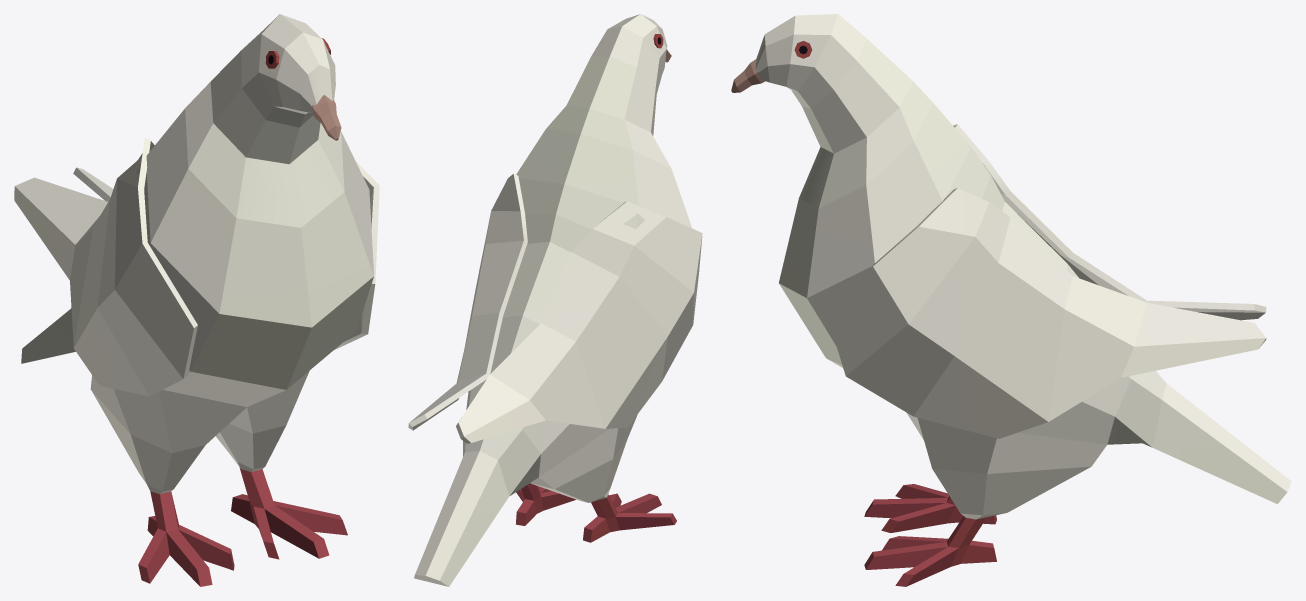
The model's file is pigeon.glb.
The picture shows the model from 3 angles, left to right: view 1: azimuth 30°, elevation 25°; view 2: azimuth 150°, elevation 25°; view 3: azimuth 270°, elevation 25°; orthographic projection. The views are drawn at different scales.
Parts seen in each view (by area): view 1: Geo_Dove; view 2: Geo_Dove; view 3: Geo_Dove.
Boxes of the visible parts, x1,y1,x2,y2 form: Geo_Dove: (14, 14, 379, 586); Geo_Dove: (408, 14, 702, 586); Geo_Dove: (731, 14, 1291, 586).
Size of the model in its own units: 0.1311 by 0.28 by 0.2698.
1 material, 1 textured.
